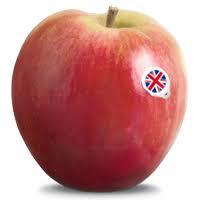apple: (16, 8, 188, 191)
